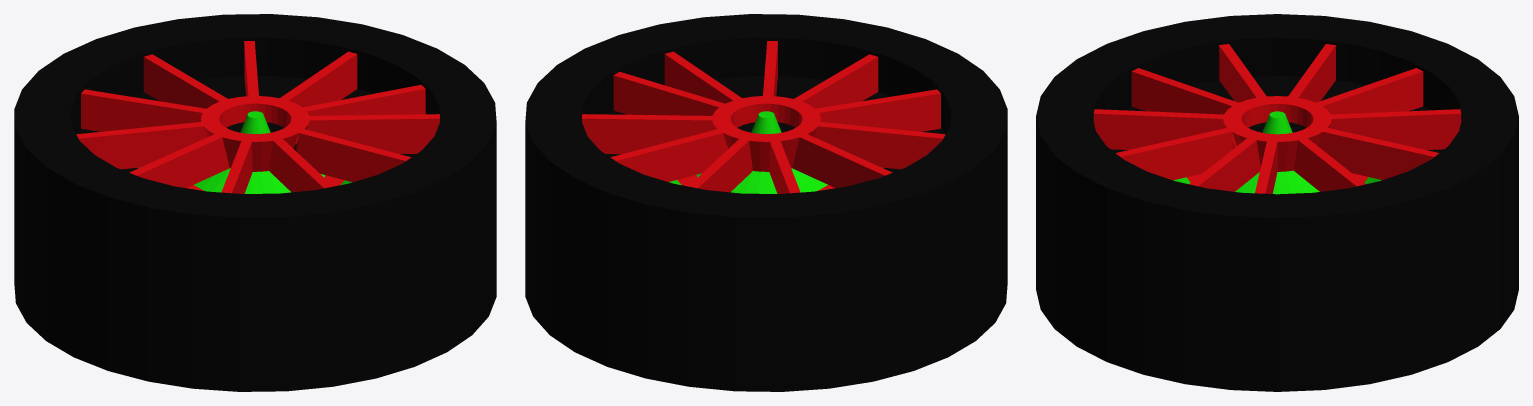
File: Roda.fbx
3 views of the same model, side by side, from view 1: azimuth 30°, elevation 25°; view 2: azimuth 150°, elevation 25°; view 3: azimuth 270°, elevation 25° (orthographic).
Visible parts, largest first — view 1: Cylinder; view 2: Cylinder; view 3: Cylinder.
Part boxes in pixels (x1=…): Cylinder: x1=14, y1=14, x2=496, y2=391; Cylinder: x1=525, y1=14, x2=1007, y2=391; Cylinder: x1=1036, y1=14, x2=1518, y2=391.
Bounding box in the file's own units: 200 × 80.07 × 200.
